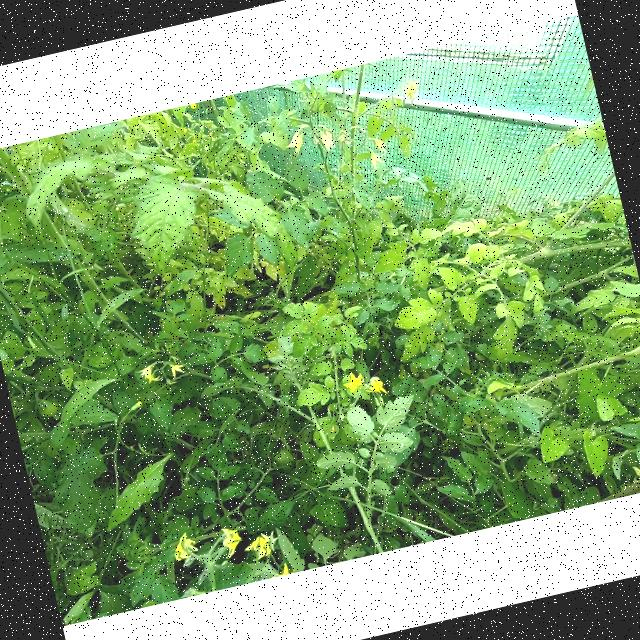Flowers: (240, 528, 282, 560), (168, 530, 200, 562), (215, 524, 242, 560), (340, 368, 366, 396), (363, 372, 391, 398), (283, 128, 308, 156), (398, 80, 422, 108), (163, 357, 189, 380), (137, 360, 160, 384), (368, 132, 390, 156), (365, 148, 388, 170), (318, 125, 336, 153), (335, 128, 351, 144)
